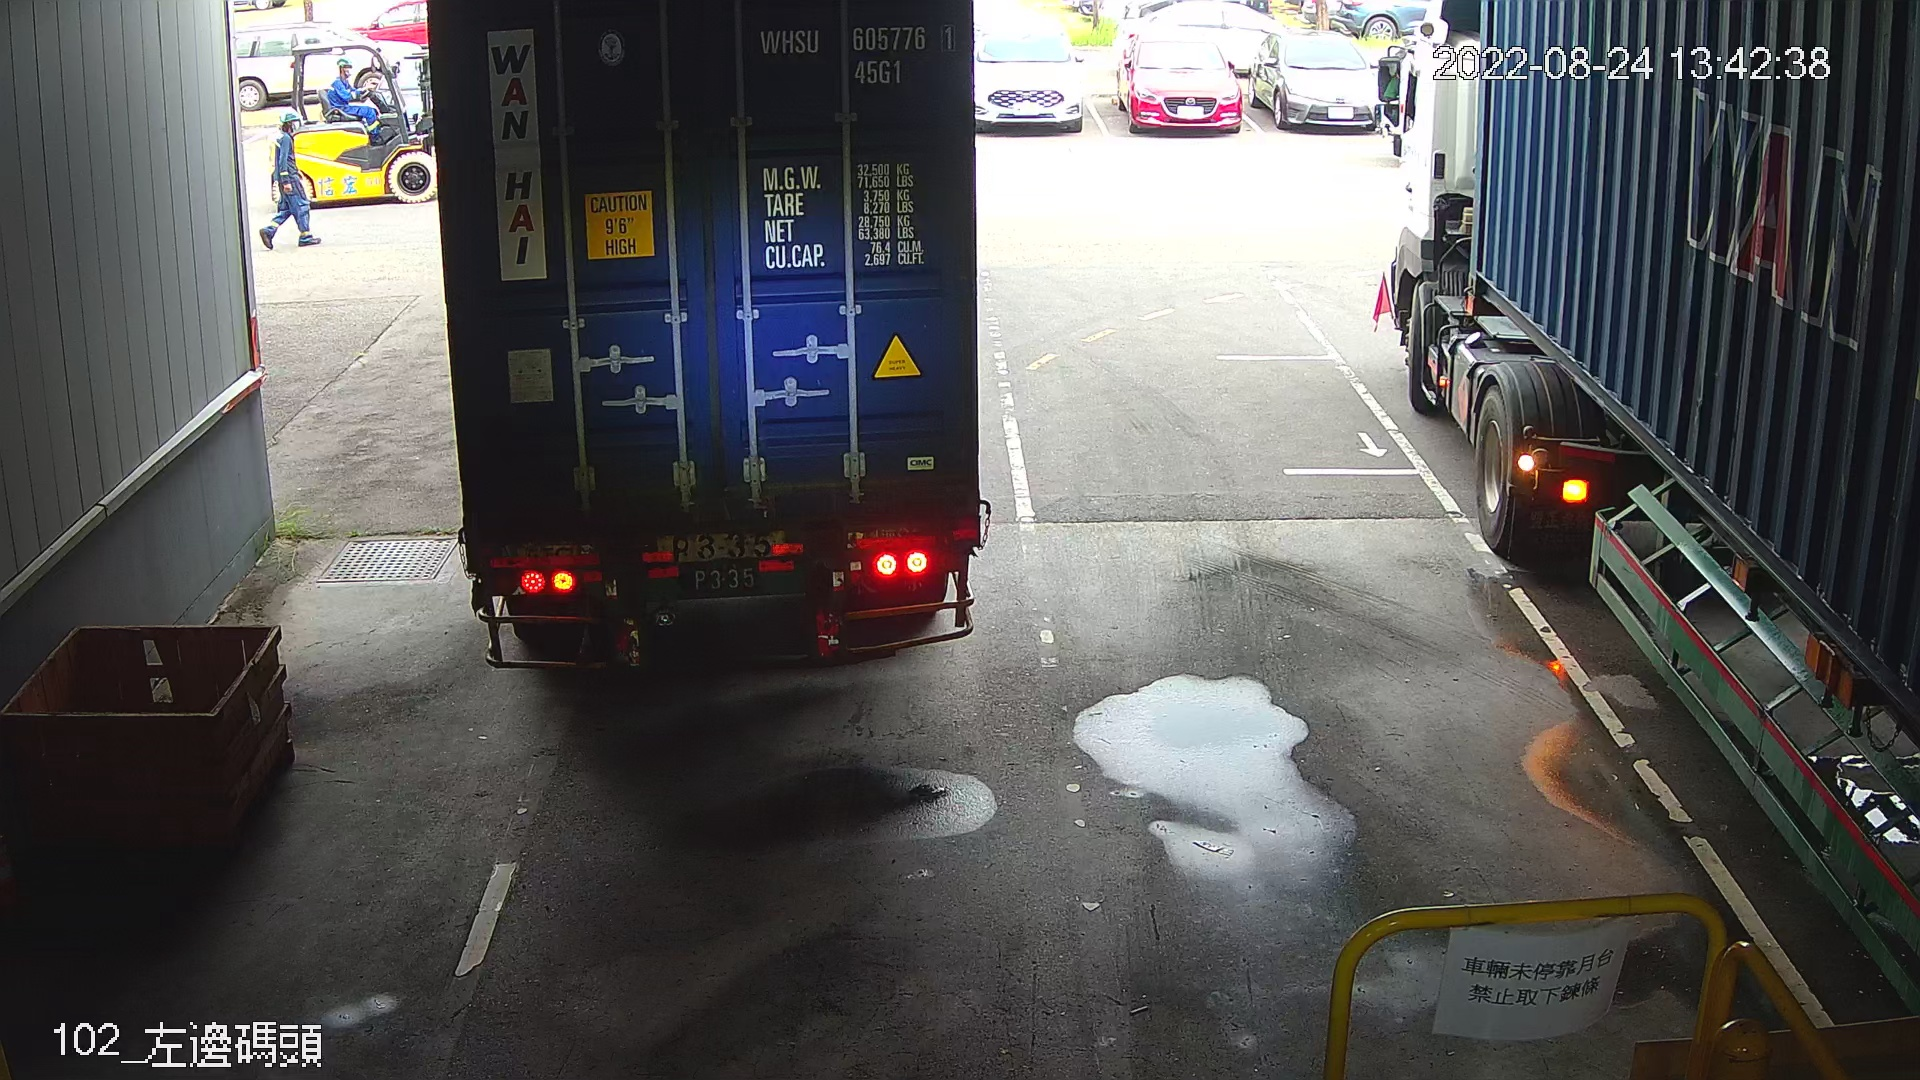container: (753, 16, 964, 94)
